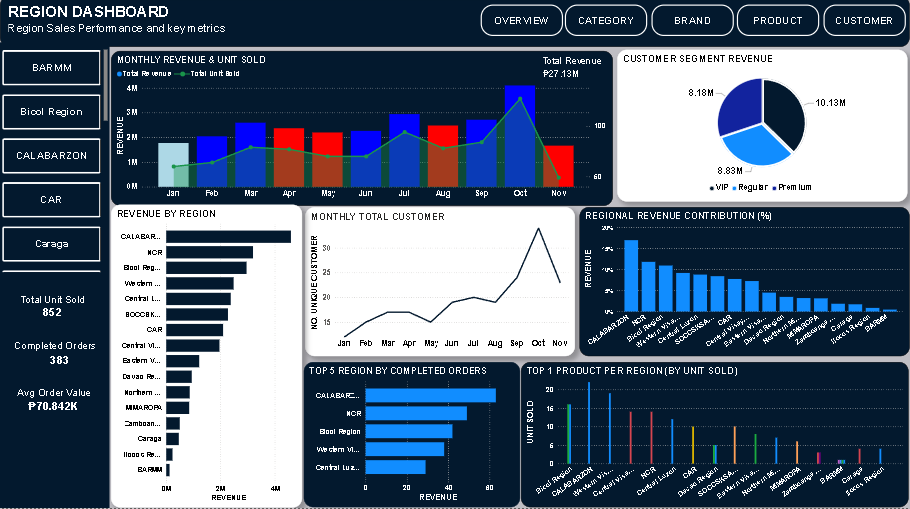

The dashboard page shown, as its layout file describes it:
{"tool":"powerbi","page":{"name":"REGION","canvas":[1920,1080],"ordinal":4},"visuals":[{"type":"group","id":"g1","title":"Group 1","box":[0,0,1920,107],"z":0},{"type":"shape","box":[0,0,1920,107],"z":0,"group":"g1"},{"type":"actionButton","box":[1374.2,19.1,174.1,66.8],"z":1000,"group":"g1"},{"type":"shape","box":[0,97.1,231.4,982.9],"z":1000},{"type":"actionButton","box":[1555.5,19.1,174.1,66.8],"z":2000,"group":"g1"},{"type":"advancedSlicerVisual","fields":{"Values":["public customer.region"]},"box":[0,107,232.2,480.6],"z":2000},{"type":"actionButton","box":[1736.9,19.1,174.1,66.8],"z":3000,"group":"g1"},{"type":"cardVisual","fields":{"Data":["public order_items.Total Quantity"]},"box":[0,605.8,222.1,101],"z":3000},{"type":"actionButton","box":[1192.9,19.1,174.1,66.8],"z":4000,"group":"g1"},{"type":"cardVisual","fields":{"Data":["public order_receipts.Avg Order Value"]},"box":[4,805.8,218.1,92.9],"z":4000},{"type":"textbox","box":[11.9,9.5,536.8,97.5],"z":5000,"group":"g1"},{"type":"group","id":"g2","title":"Group 2","box":[233.8,105,1073.6,336.4],"z":5000},{"type":"actionButton","box":[1014,19.1,174.1,66.8],"z":6000,"group":"g1"},{"type":"clusteredColumnChart","title":"TOP 1 PRODUCT PER REGION (BY UNIT SOLD)","fields":{"Category":["public customer.region"],"Y":["public order_items.Total Unit Sold"],"Series":["public product.product_name"]},"box":[1100.6,771.4,817.9,307],"z":6000},{"type":"lineChart","title":"MONTHLY TOTAL CUSTOMER","fields":{"Category":["public order_receipts.Month Name"],"Y":["public customer.Monthly total customer per region"]},"box":[644.2,446.3,569.5,315],"z":7000},{"type":"pieChart","title":"CUSTOMER SEGMENT REVENUE","fields":{"Category":["public customer.customer_segment"],"Y":["public order_items.Total Revenue"]},"box":[1302.8,113.7,612,320.6],"z":8000},{"type":"lineClusteredColumnComboChart","title":"MONTHLY REVENUE & UNIT SOLD","fields":{"Category":["public order_receipts.Month Name"],"Y":["public order_items.Total Revenue"],"Y2":["public order_items.Total Unit Sold"]},"box":[233.8,114.5,1059.3,326.8],"z":8000,"group":"g2"},{"type":"cardVisual","fields":{"Data":["public order_receipts.Total Order Receipt"]},"box":[0,703.8,252.9,102.6],"z":9000},{"type":"clusteredBarChart","title":"REVENUE BY REGION","fields":{"Category":["public customer.region"],"Y":["public order_items.Total Revenue"]},"box":[233.8,439,403.2,639.4],"z":10000},{"type":"lineClusteredColumnComboChart","title":"REGIONAL REVENUE CONTRIBUTION (%)","fields":{"Category":["public customer.region"],"Y":["public customer.Region revenue %"]},"box":[1223.8,446.3,696.7,314.9],"z":11000},{"type":"clusteredBarChart","title":"TOP 5 REGION BY COMPLETED ORDERS","fields":{"Category":["public customer.region"],"Y":["public order_receipts.Completed Orders"]},"box":[642.2,771.4,456.4,306.9],"z":12000},{"type":"cardVisual","fields":{"Data":["public order_items.Total Revenue"]},"box":[1118,105,189.5,92.6],"z":15001,"group":"g2"}]}

Visuals, with their boxes in screenshot pixels (x1, y1, x2, y2), scaled from the page's 1920x1080 canvas onto the 910x509 screenshot:
"Group 1" group: crop(0, 0, 909, 50)
shape: crop(0, 0, 909, 50)
actionButton: crop(651, 9, 734, 40)
shape: crop(0, 46, 110, 508)
actionButton: crop(737, 9, 820, 40)
advancedSlicerVisual - public customer.region: crop(0, 50, 110, 277)
actionButton: crop(823, 9, 906, 40)
cardVisual - public order_items.Total Quantity: crop(0, 286, 105, 333)
actionButton: crop(565, 9, 648, 40)
cardVisual - public order_receipts.Avg Order Value: crop(2, 380, 105, 424)
textbox: crop(6, 4, 260, 50)
"Group 2" group: crop(111, 49, 620, 208)
actionButton: crop(481, 9, 563, 40)
"TOP 1 PRODUCT PER REGION (BY UNIT SOLD)" clusteredColumnChart: crop(522, 364, 909, 508)
"MONTHLY TOTAL CUSTOMER" lineChart: crop(305, 210, 575, 359)
"CUSTOMER SEGMENT REVENUE" pieChart: crop(617, 54, 908, 205)
"MONTHLY REVENUE & UNIT SOLD" lineClusteredColumnComboChart: crop(111, 54, 613, 208)
cardVisual - public order_receipts.Total Order Receipt: crop(0, 332, 120, 380)
"REVENUE BY REGION" clusteredBarChart: crop(111, 207, 302, 508)
"REGIONAL REVENUE CONTRIBUTION (%)" lineClusteredColumnComboChart: crop(580, 210, 909, 359)
"TOP 5 REGION BY COMPLETED ORDERS" clusteredBarChart: crop(304, 364, 521, 508)
cardVisual - public order_items.Total Revenue: crop(530, 49, 620, 93)
